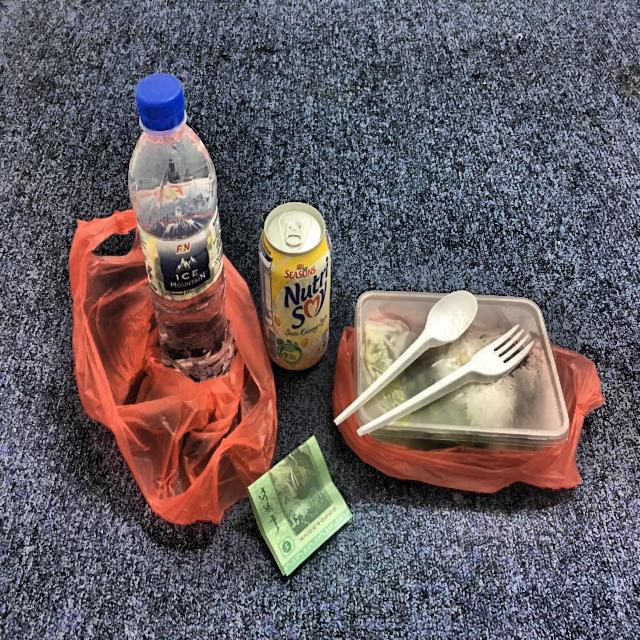Bottles: (114, 60, 242, 406)
